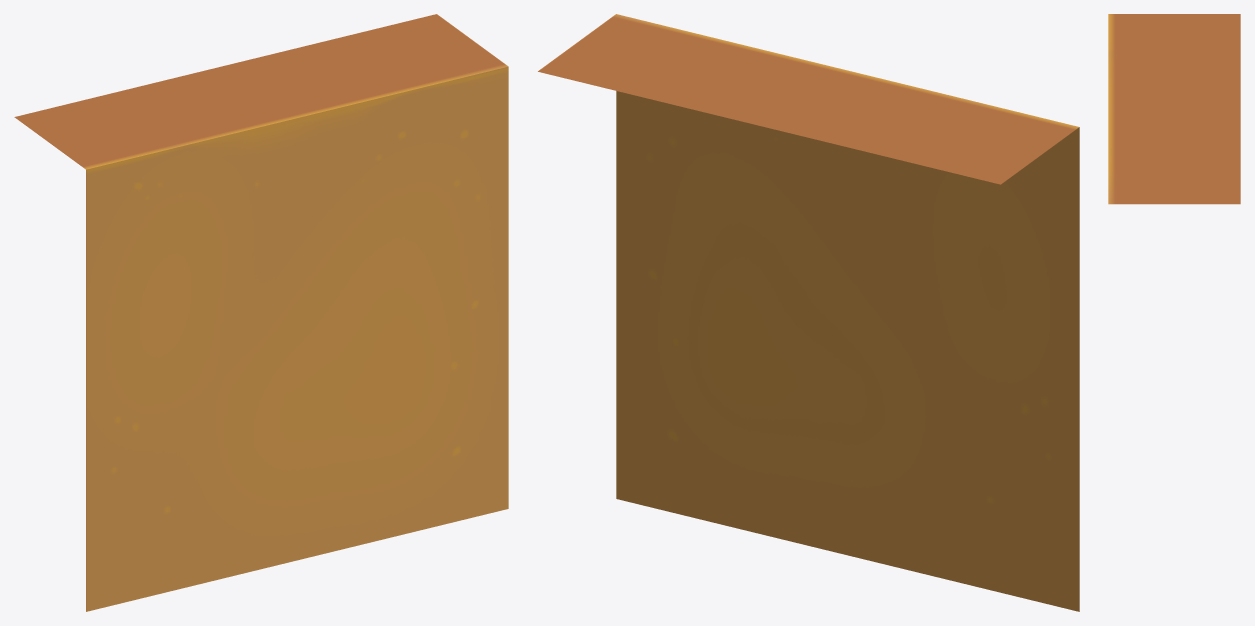
File: desertWallSmall_MESH.fbx
The picture shows the model from 3 angles, left to right: view 1: azimuth 30°, elevation 25°; view 2: azimuth 150°, elevation 25°; view 3: azimuth 270°, elevation 25°; orthographic projection. The views are drawn at different scales.
Visible parts, largest first — view 1: Desert_WallS; view 2: Desert_WallS; view 3: Desert_WallS.
Part boxes in pixels (x1=…): Desert_WallS: x1=14, y1=14, x2=508, y2=611; Desert_WallS: x1=538, y1=14, x2=1079, y2=611; Desert_WallS: x1=1108, y1=14, x2=1240, y2=204.
Bounding box in the file's own units: 100 × 100 × 29.44.
